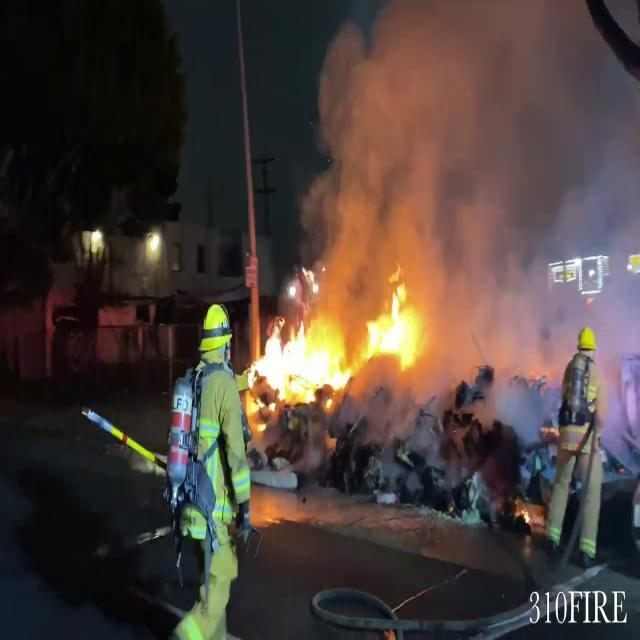Fire: (248, 268, 426, 422)
Smoke: (282, 1, 640, 352)
